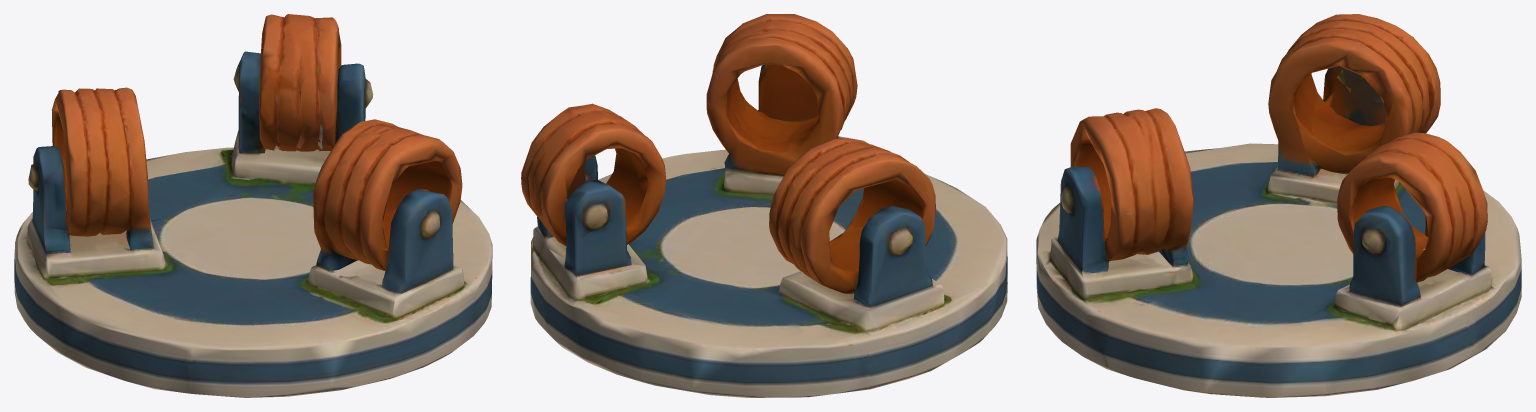
The model's file is ferraris-coils.glb.
3 views of the same model, side by side, from view 1: azimuth 30°, elevation 25°; view 2: azimuth 150°, elevation 25°; view 3: azimuth 270°, elevation 25° (orthographic). The views are drawn at different scales.
Parts seen in each view (by area): view 1: textured_mesh.obj; view 2: textured_mesh.obj; view 3: textured_mesh.obj.
Boxes of the visible parts, <box> form: textured_mesh.obj: <box>14,14,492,397</box>; textured_mesh.obj: <box>521,14,1007,397</box>; textured_mesh.obj: <box>1036,14,1521,397</box>.
Bounding box in the file's own units: 2.1 × 0.9989 × 2.1.
Materials: 1 (1 with a texture image).
